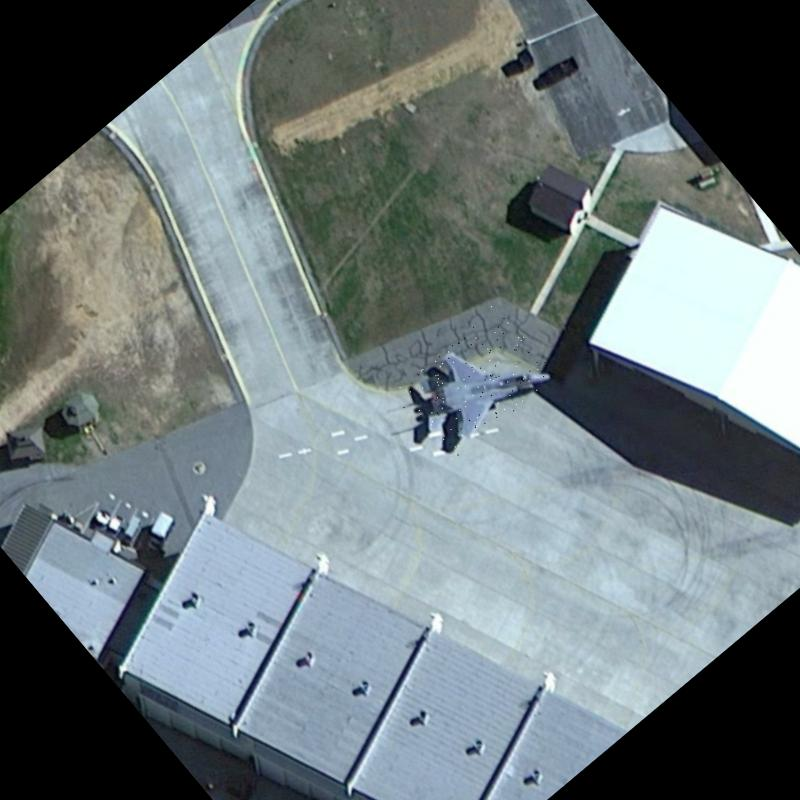A13: (389, 302, 557, 464)
